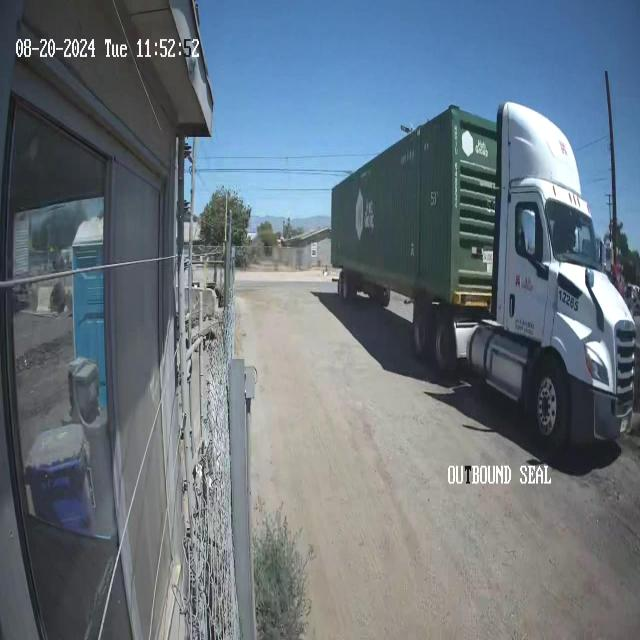CONTAINER: (329, 98, 503, 310)
